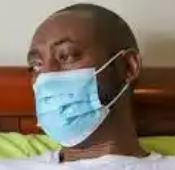with_facemask: (29, 75, 109, 142)
